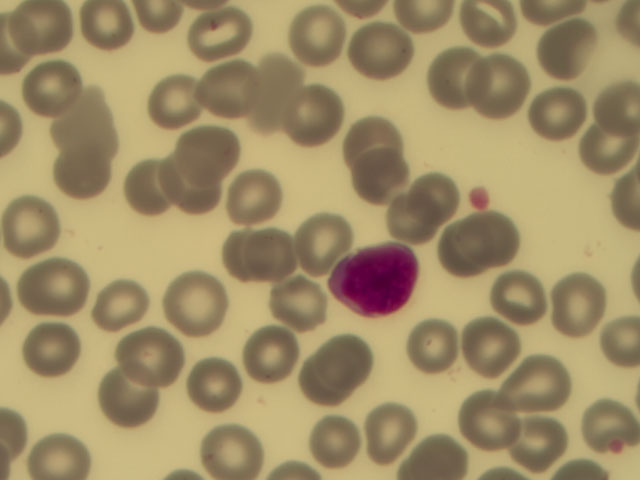Platelets: (468, 187, 491, 207)
RBC: (9, 1, 75, 58), (25, 60, 85, 120), (54, 88, 114, 148), (48, 145, 108, 205), (1, 194, 61, 254), (21, 256, 81, 316), (19, 318, 79, 378), (90, 275, 150, 335), (119, 328, 179, 388), (98, 370, 158, 430), (26, 419, 86, 479), (167, 274, 227, 334), (120, 160, 180, 220), (153, 152, 213, 212), (180, 127, 240, 187), (146, 71, 206, 131), (187, 1, 247, 61), (194, 60, 254, 120), (242, 58, 302, 118), (288, 87, 348, 147), (342, 111, 402, 171), (345, 144, 405, 204), (290, 209, 350, 269), (247, 223, 307, 283), (221, 224, 281, 284), (216, 162, 276, 222), (264, 275, 324, 335), (243, 322, 303, 382), (183, 356, 243, 416), (193, 415, 253, 475), (292, 356, 352, 416), (321, 325, 381, 385), (412, 313, 472, 373), (365, 401, 425, 461), (315, 406, 375, 466), (417, 416, 477, 476), (471, 390, 531, 450), (510, 352, 570, 412), (465, 317, 525, 377), (493, 267, 553, 327), (467, 212, 527, 272), (445, 213, 505, 273), (407, 164, 467, 224), (383, 188, 443, 248), (474, 55, 534, 115), (427, 48, 487, 108), (356, 22, 416, 82), (289, 5, 349, 65), (526, 84, 586, 144), (536, 21, 596, 81), (462, 1, 522, 61), (577, 121, 637, 181), (549, 273, 609, 333), (580, 399, 640, 459), (508, 409, 568, 469)
WBC: (331, 244, 420, 320)
